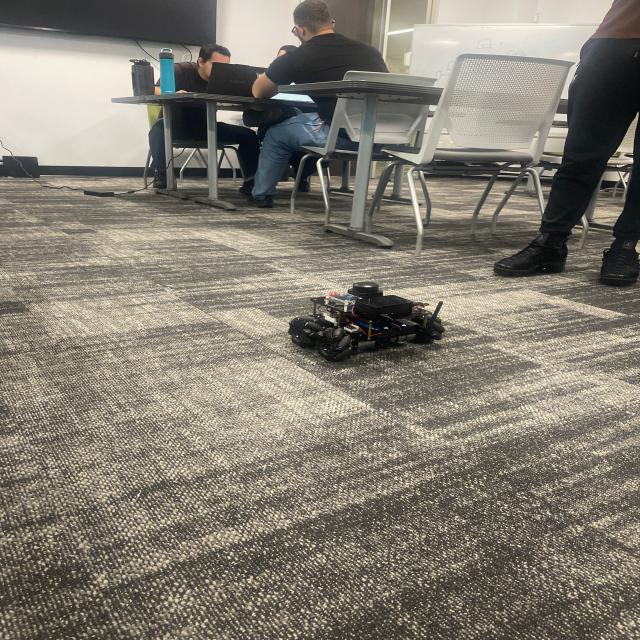ArduinoCar: (273, 272, 453, 368)
